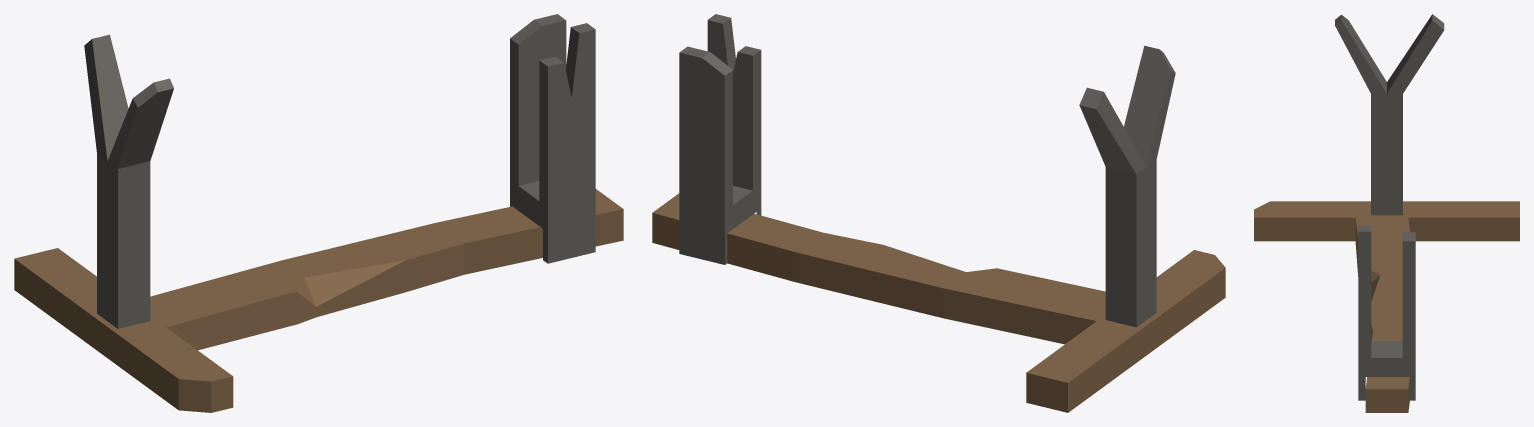
Rendered from SM_Rack.gltf.
3 renders of one model, left to right at view 1: azimuth 30°, elevation 25°; view 2: azimuth 150°, elevation 25°; view 3: azimuth 270°, elevation 25°, orthographic. The views are drawn at different scales.
Parts seen in each view (by area): view 1: SM_Rack; view 2: SM_Rack; view 3: SM_Rack.
Part boxes in pixels (x1,y1,x2,y2): SM_Rack: (14,14,623,412); SM_Rack: (652,14,1225,412); SM_Rack: (1254,14,1519,412).
Bounding box in the file's own units: 0.6916 × 0.3752 × 0.4136.
1 material, 1 textured.
